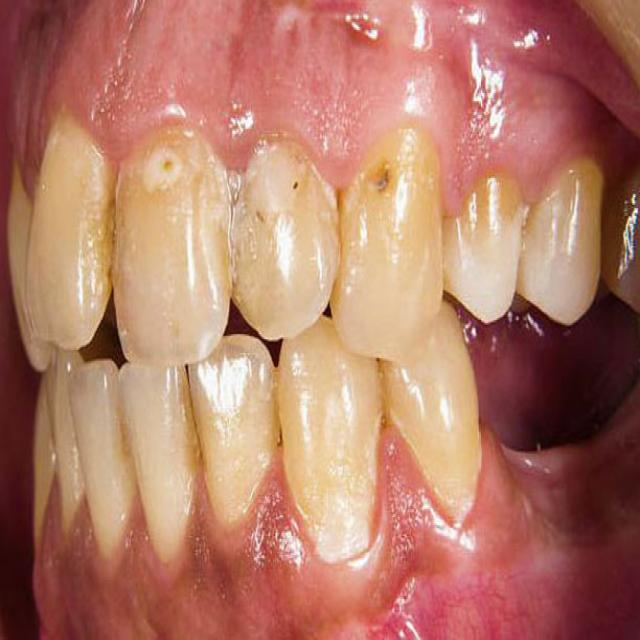caries: (362, 150, 405, 205)
